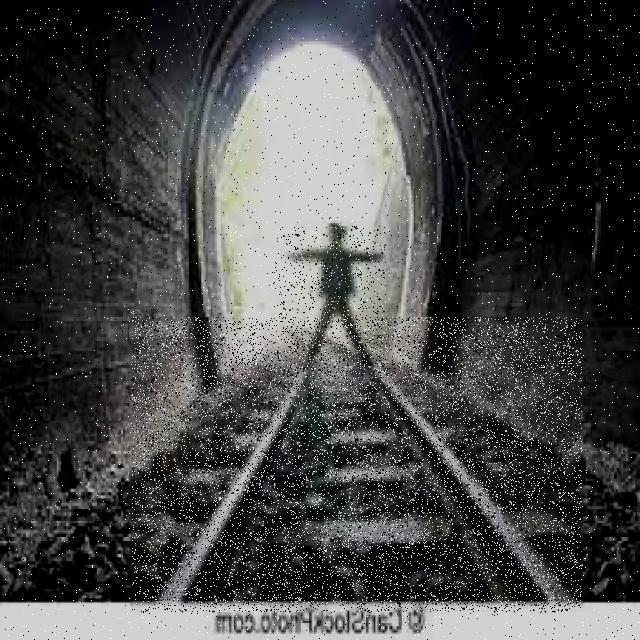danger: (274, 226, 386, 368)
rail: (133, 317, 582, 612)
